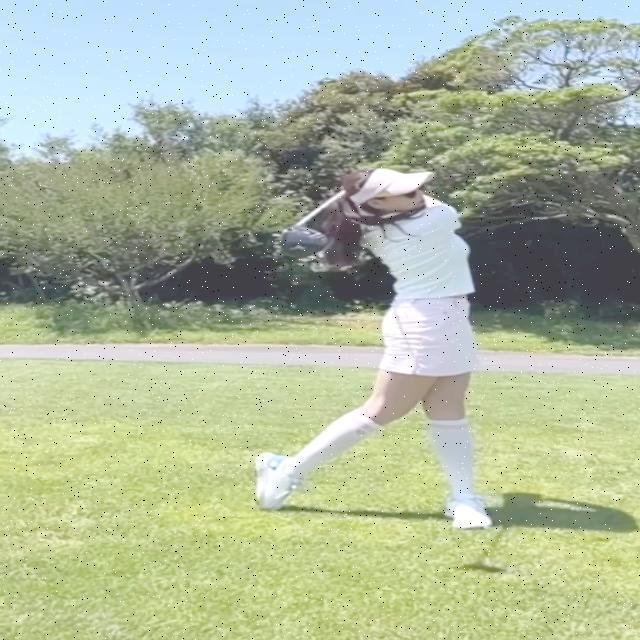ClubHead: (278, 228, 332, 256)
